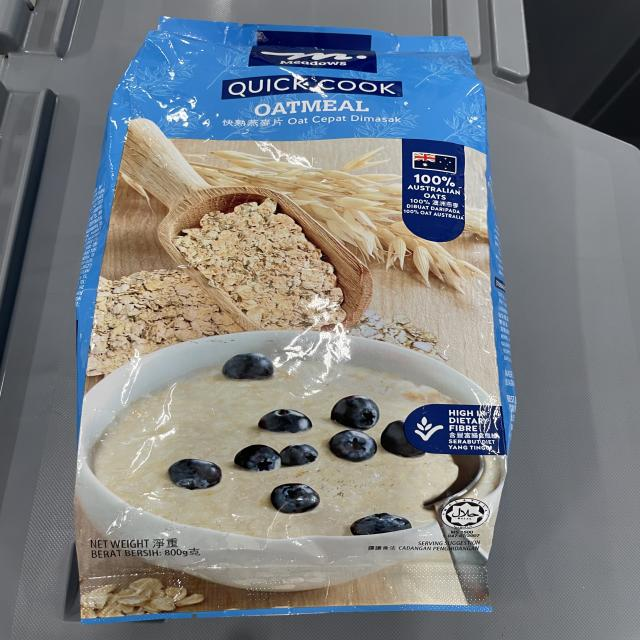object_name: (108, 28, 497, 610)
